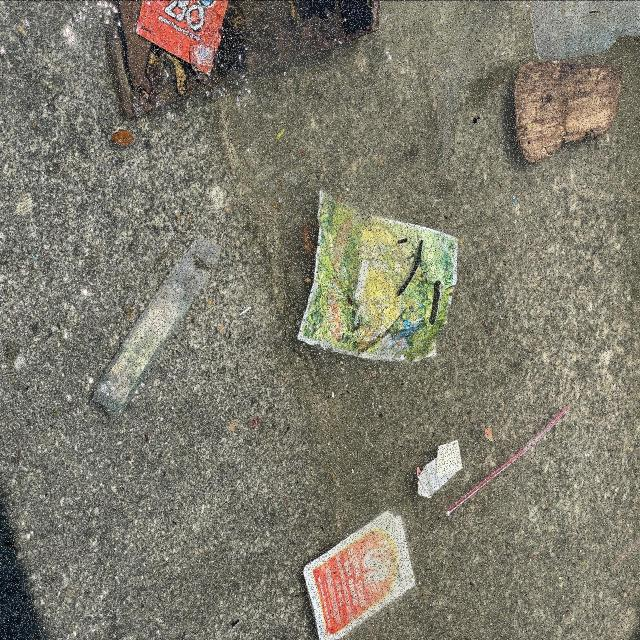plastic_waste: (297, 199, 458, 365), (96, 236, 225, 421), (302, 513, 416, 640), (446, 406, 570, 516), (139, 1, 244, 74)
wood_waste: (513, 60, 624, 166)
